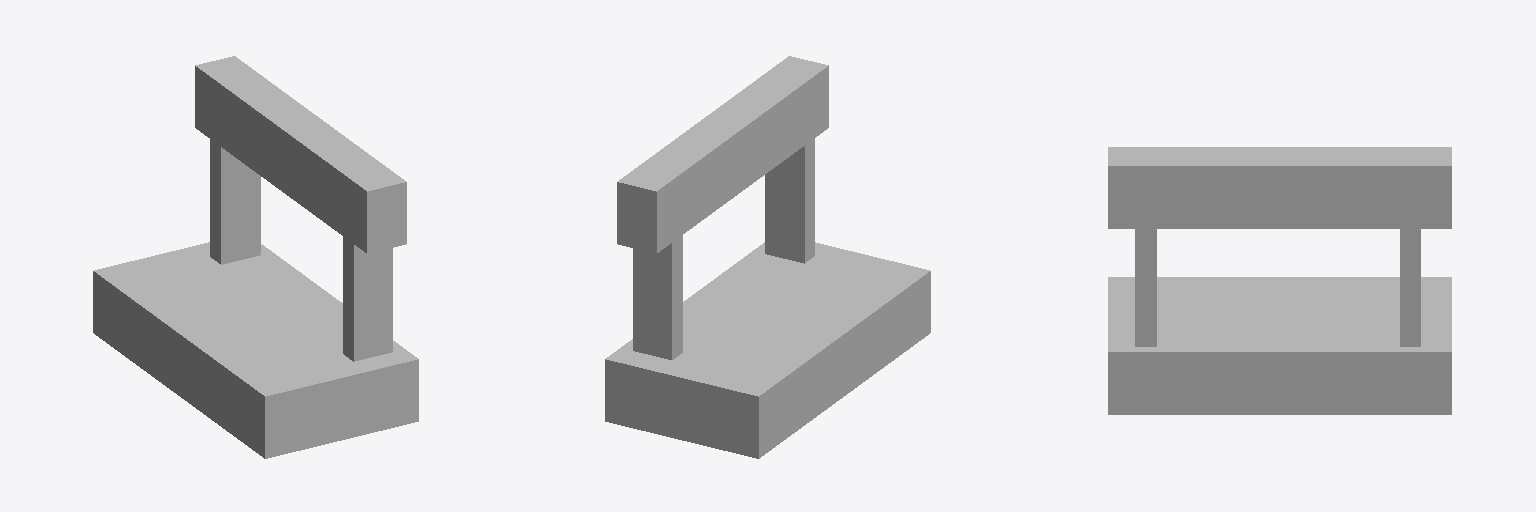
Rendered from Shop.obj.
3 views of the same model, side by side, from view 1: azimuth 30°, elevation 25°; view 2: azimuth 150°, elevation 25°; view 3: azimuth 270°, elevation 25° (orthographic).
Visible parts, largest first — view 1: Cube, Cube.003, Cube.001, Cube.002; view 2: Cube, Cube.003, Cube.002, Cube.001; view 3: Cube, Cube.003, Cube.001, Cube.002.
Part boxes in pixels (x1,y1,x2,y2): Cube: (93, 242, 418, 458); Cube.003: (195, 56, 406, 253); Cube.001: (343, 236, 392, 361); Cube.002: (210, 139, 260, 264); Cube: (605, 242, 930, 458); Cube.003: (617, 56, 828, 253); Cube.002: (633, 235, 682, 359); Cube.001: (765, 138, 814, 263); Cube: (1108, 277, 1451, 414); Cube.003: (1108, 147, 1451, 228); Cube.001: (1135, 229, 1156, 346); Cube.002: (1400, 229, 1420, 346).
Size of the model in its own units: 5.16 by 7.78 by 10.01.